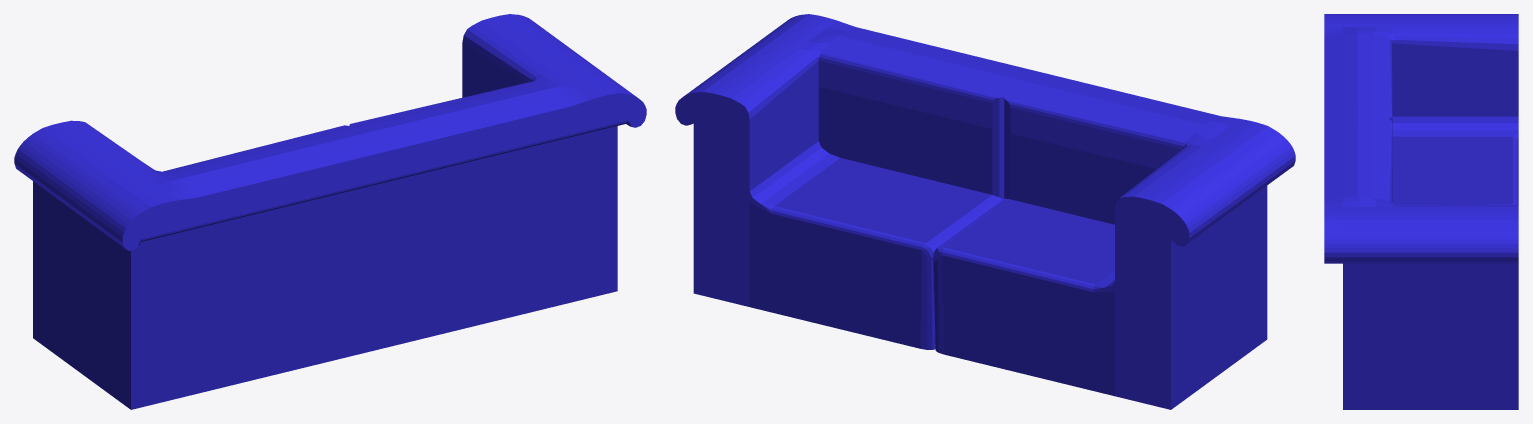
The model's file is Couch int.fbx.
The picture shows the model from 3 angles, left to right: view 1: azimuth 30°, elevation 25°; view 2: azimuth 150°, elevation 25°; view 3: azimuth 270°, elevation 25°; orthographic projection. The views are drawn at different scales.
Parts seen in each view (by area): view 1: Cube; view 2: Cube; view 3: Cube.
Boxes of the visible parts, x1,y1,x2,y2 form: Cube: [14, 14, 646, 409]; Cube: [675, 14, 1295, 409]; Cube: [1324, 14, 1518, 409].
Bounding box in the file's own units: 215 × 77.12 × 83.01.
